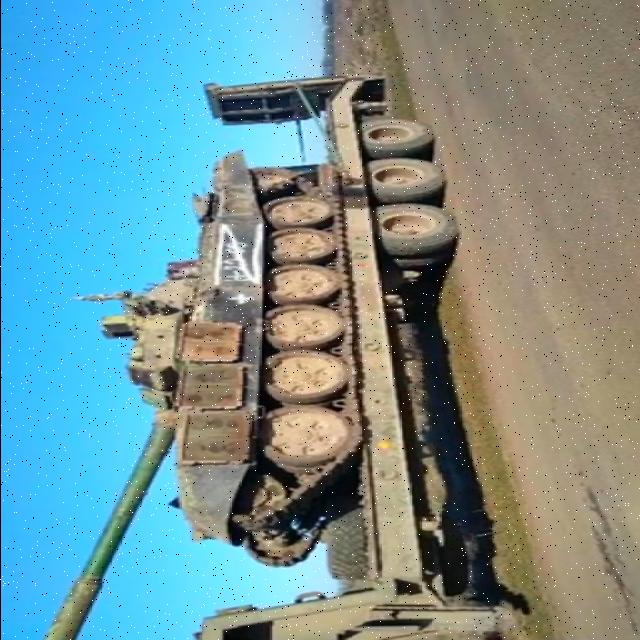TANK: (24, 152, 368, 640)
